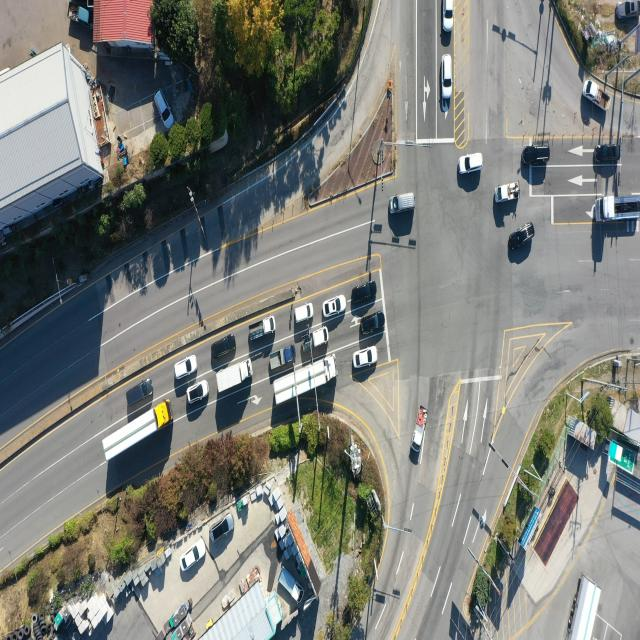car: (180, 538, 206, 573), (156, 89, 176, 130), (126, 379, 154, 407), (509, 221, 535, 251), (522, 143, 552, 169), (212, 517, 234, 546), (211, 337, 236, 362), (175, 354, 198, 379), (359, 314, 384, 337), (391, 191, 417, 213), (322, 296, 346, 319), (353, 346, 377, 369), (351, 281, 376, 303), (458, 152, 482, 174), (186, 381, 208, 404), (443, 54, 454, 99), (595, 144, 621, 163), (616, 0, 640, 20), (292, 304, 313, 325), (444, 0, 454, 32)
medium_truck: (101, 398, 170, 464), (270, 352, 337, 404), (565, 577, 601, 640), (215, 358, 251, 394), (598, 194, 640, 224)
small_truck: (276, 569, 304, 603), (584, 80, 611, 114), (413, 404, 429, 456), (249, 315, 277, 341), (267, 344, 295, 370), (66, 3, 90, 28), (305, 328, 329, 352), (496, 180, 520, 202)
